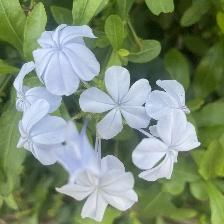chitrak: (58, 152, 140, 221), (133, 107, 201, 183), (79, 66, 150, 138), (34, 24, 102, 92)
